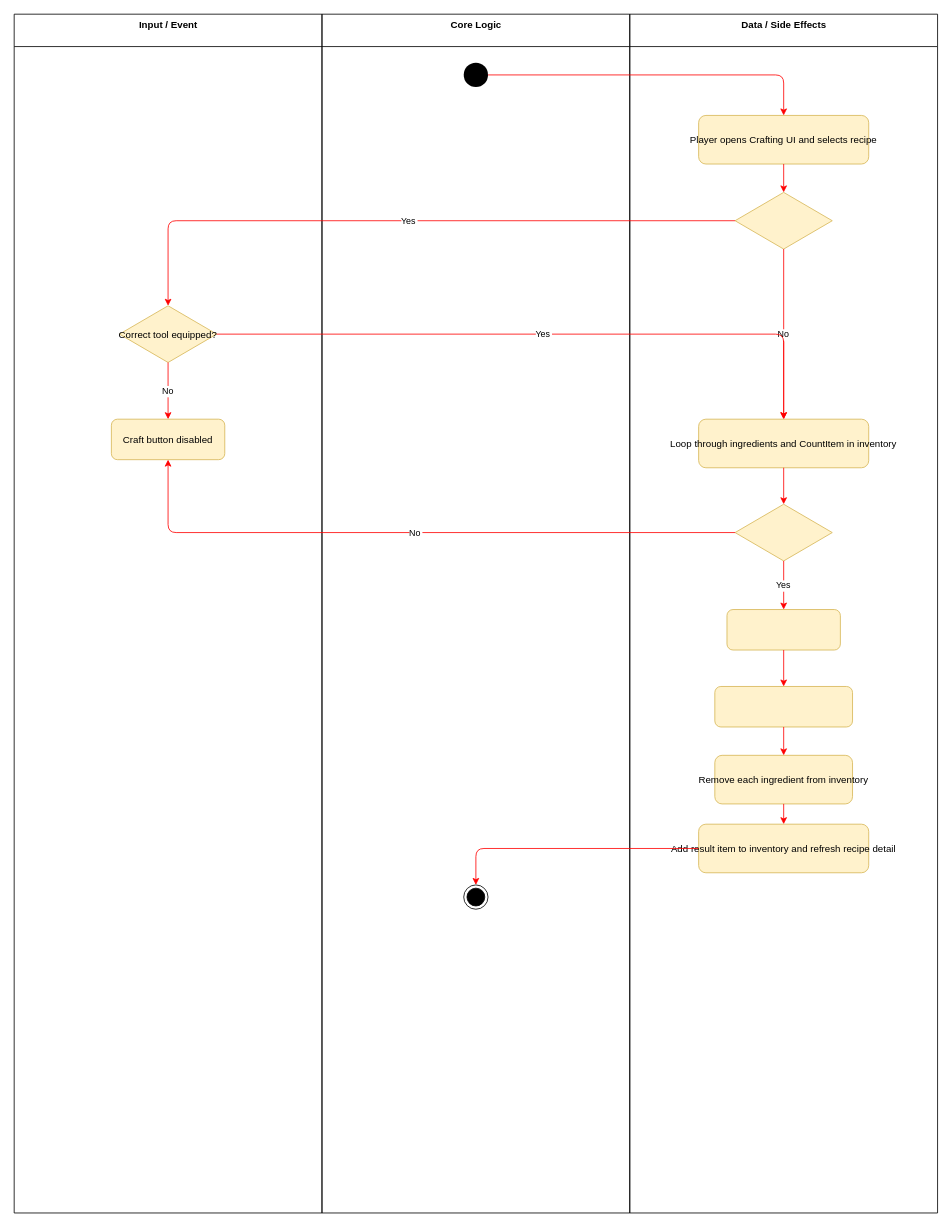
The diagram is 952 pixels wide and 1227 high, and some of its shapes have lost their labels. Here are the shapes that lost their labels. From the top down, the centre of each, then its label:
pixel 783 220: Recipe requires tool?
pixel 783 532: All ingredients enough?
pixel 783 629: Enable Craft button
pixel 783 706: On click: TryCraft validates again
